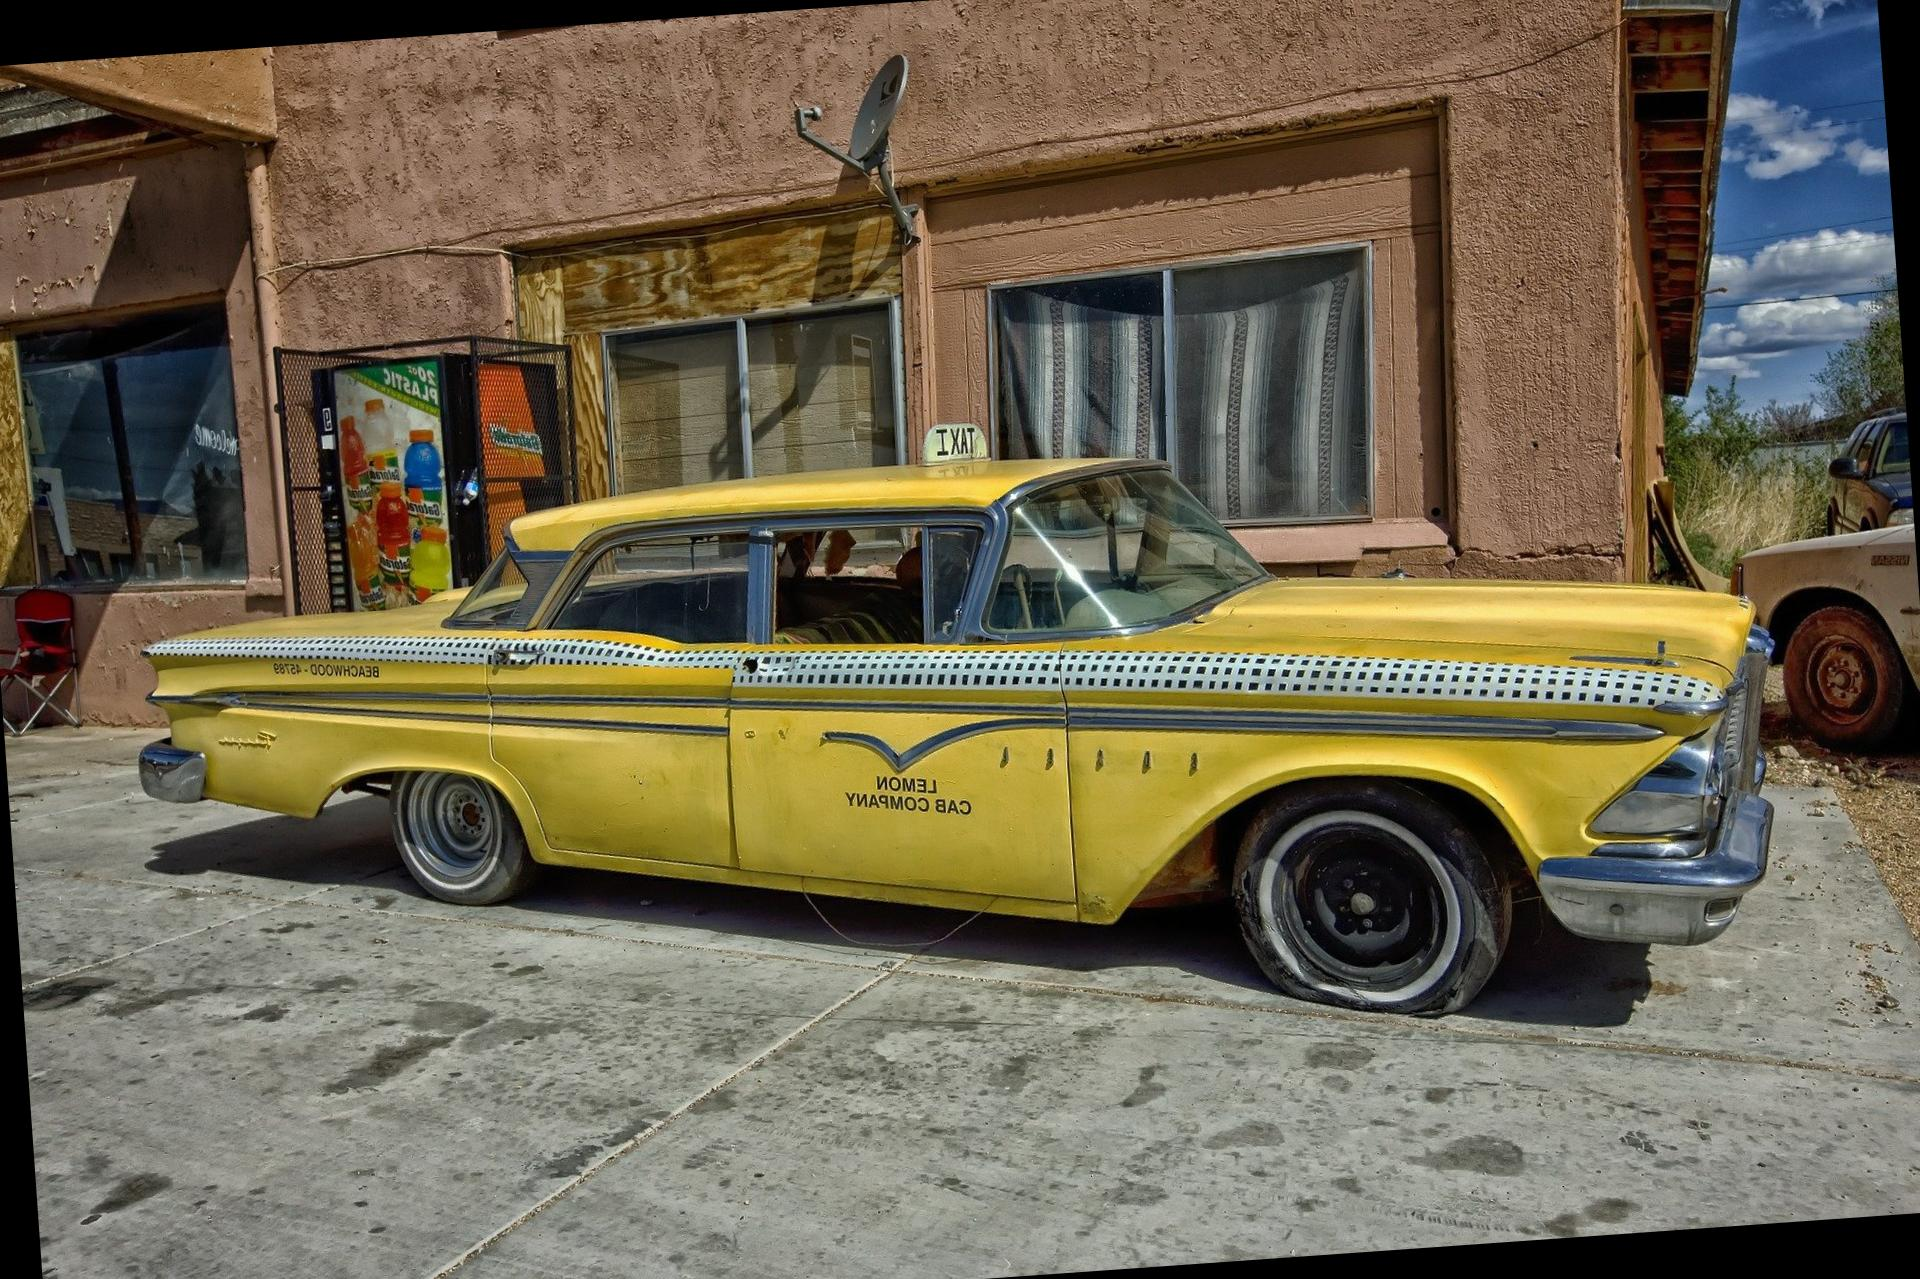taxi: (138, 488, 1789, 979)
